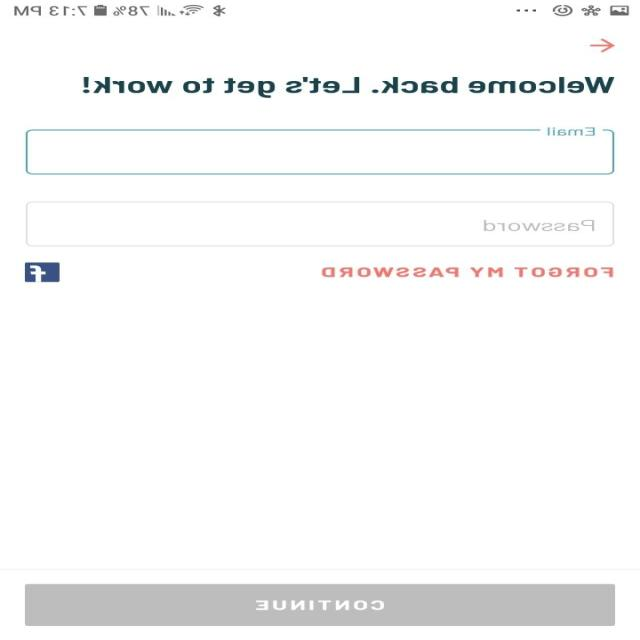EditText: (27, 126, 616, 174), (27, 201, 616, 247)
Icon: (24, 262, 60, 282), (590, 38, 616, 53)
Text: (82, 76, 616, 98), (323, 266, 614, 277), (484, 219, 596, 231), (546, 127, 594, 136)
TextButton: (26, 584, 616, 626)
